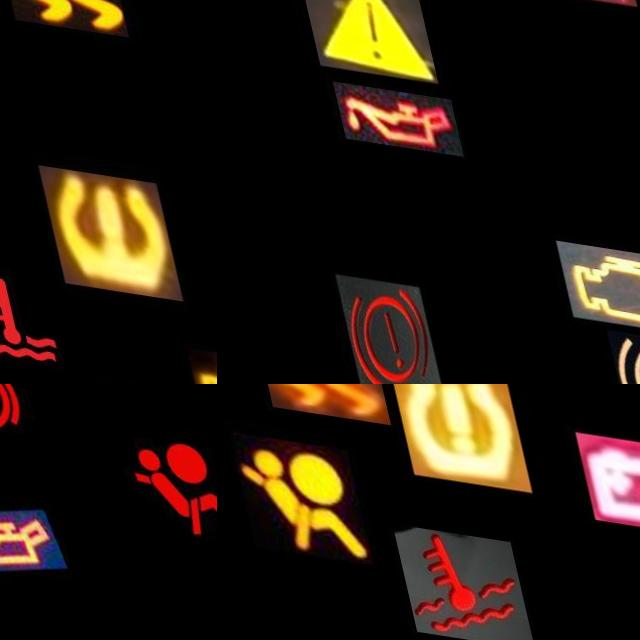Central Warning lamp: (288, 0, 424, 78)
Engine cooling system: (381, 516, 519, 639), (0, 248, 56, 381)
